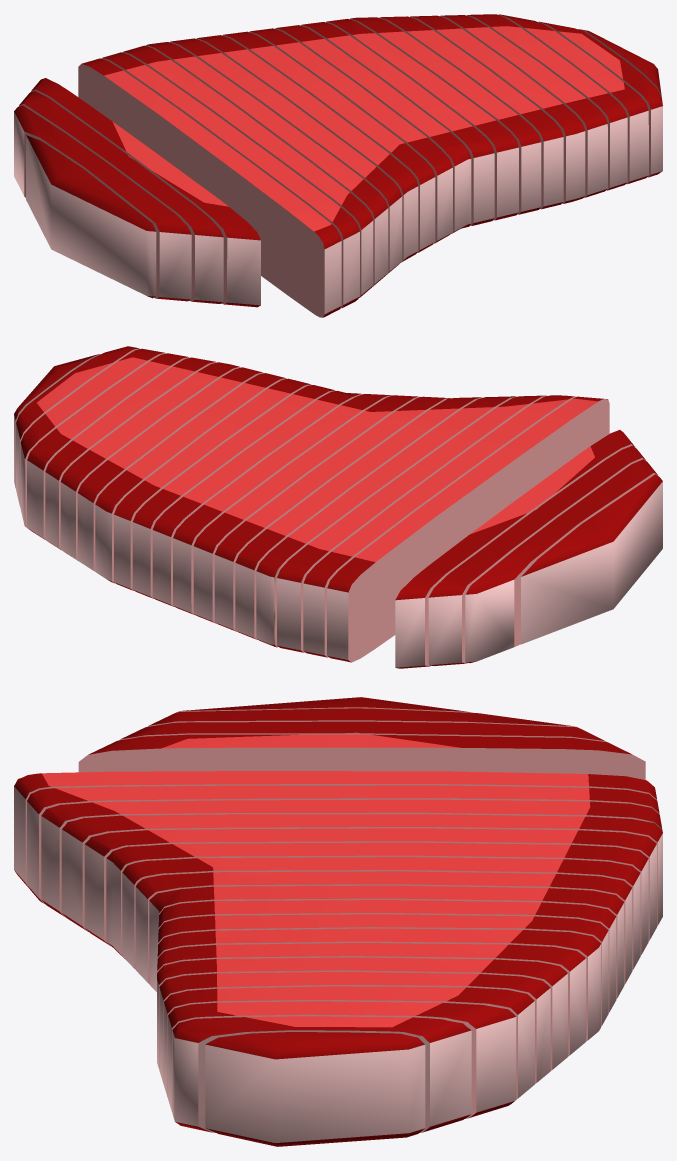
The model's file is SteakCut.fbx.
3 views of the same model, one above another, from view 1: azimuth 30°, elevation 25°; view 2: azimuth 150°, elevation 25°; view 3: azimuth 270°, elevation 25° (orthographic). The views are drawn at different scales.
Visible parts, largest first — view 1: Food_Steak; view 2: Food_Steak; view 3: Food_Steak.
Part boxes in pixels (left/top/right/bottom): Food_Steak: left=14, top=14, right=662, bottom=317; Food_Steak: left=14, top=346, right=662, bottom=668; Food_Steak: left=14, top=697, right=662, bottom=1146.
Bounding box in the file's own units: 25.18 × 3.62 × 19.15.
